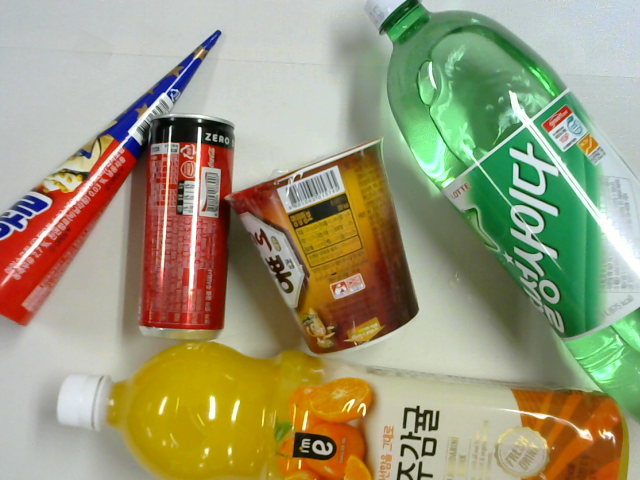Chilseong_Cider_1.5L: (364, 1, 640, 423)
Coca_Cola_Zero_Can_250ml: (137, 113, 241, 342)
Jeju_Tangerine_1.5L: (55, 342, 636, 480)
Ojjam: (225, 136, 418, 357)
World_Cone_Banila: (1, 29, 223, 326)
